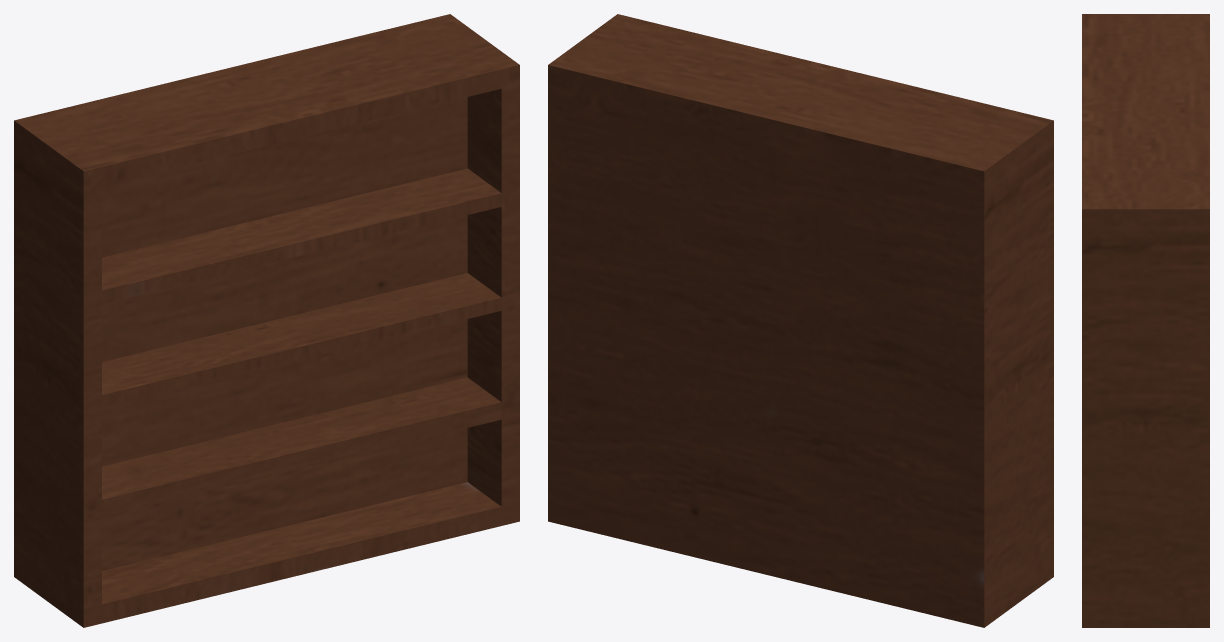
Rendered from Rack.fbx.
The picture shows the model from 3 angles, left to right: view 1: azimuth 30°, elevation 25°; view 2: azimuth 150°, elevation 25°; view 3: azimuth 270°, elevation 25°; orthographic projection. The views are drawn at different scales.
Visible parts, largest first — view 1: BartenderRack; view 2: BartenderRack; view 3: BartenderRack.
Part boxes in pixels (bbox=[...]): BartenderRack: bbox=[14, 14, 519, 627]; BartenderRack: bbox=[548, 14, 1053, 627]; BartenderRack: bbox=[1082, 14, 1209, 627].
Bounding box in the file's own units: 200 × 200 × 55.31.
